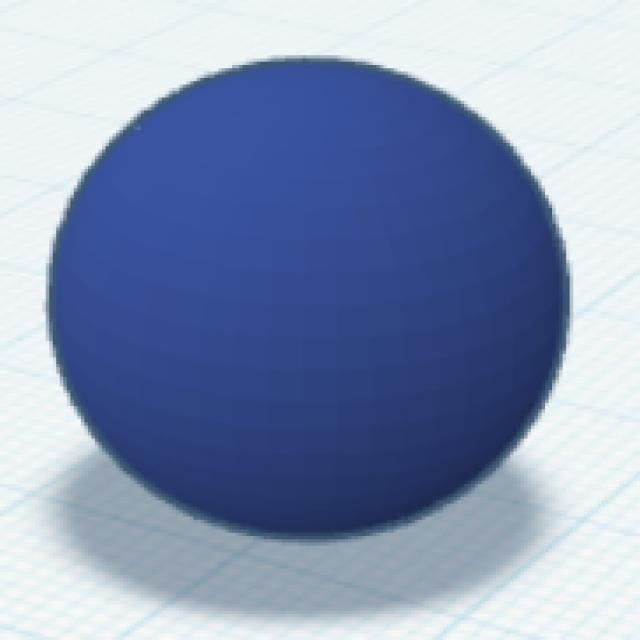sphere: (42, 51, 577, 546)
